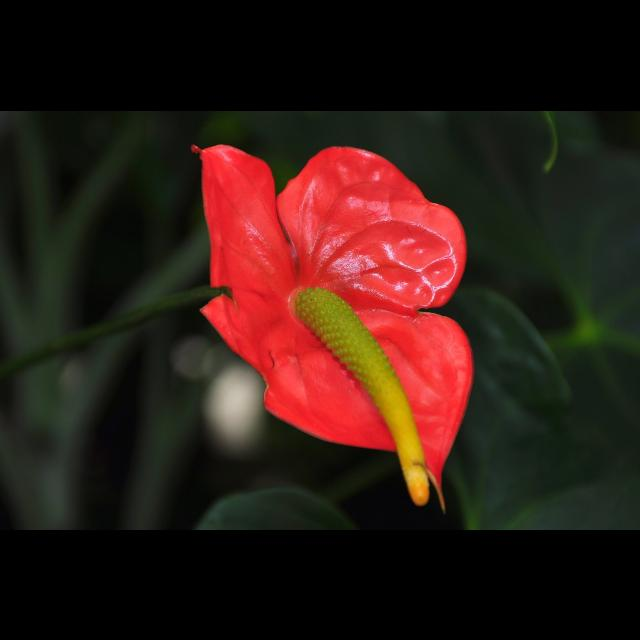Flower: (189, 143, 469, 502)
